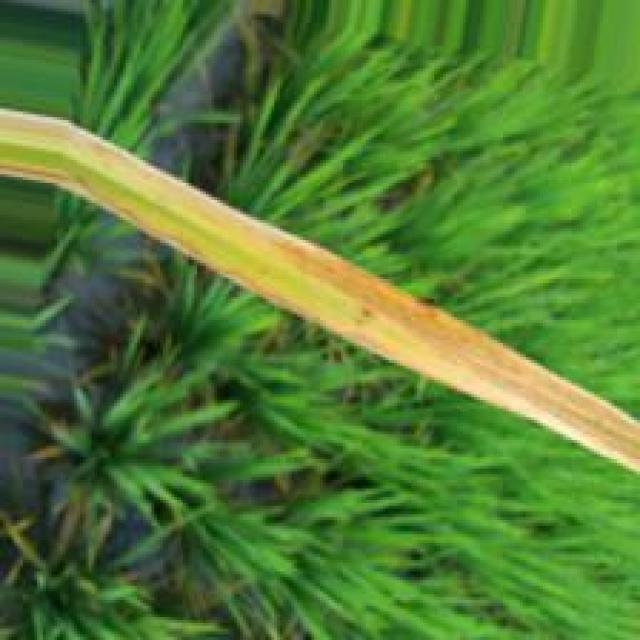Bacterial_Leaf_Blight: (0, 109, 640, 472)
